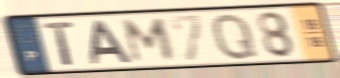7: (169, 13, 205, 64)
8: (255, 10, 296, 60)
A: (90, 19, 135, 66)
M: (122, 16, 178, 64)
Q: (209, 11, 260, 62)
T: (41, 20, 77, 67)
